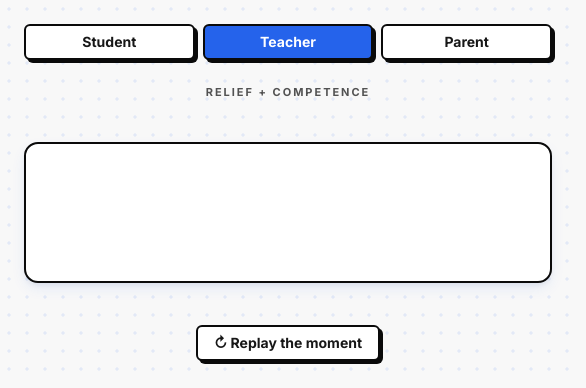
Test: SignatureMoment prototype › defaults to the teacher register and switches registers via the toggle
Click the button "Student".
click(109, 42)  # box [24, 24, 195, 60]
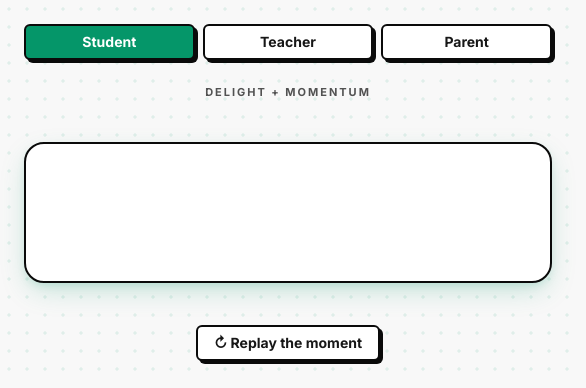
Expected: the button "Student" is pressed, [24, 24, 195, 60]
Click the button "Parent".
click(467, 42)  # box [381, 24, 552, 60]
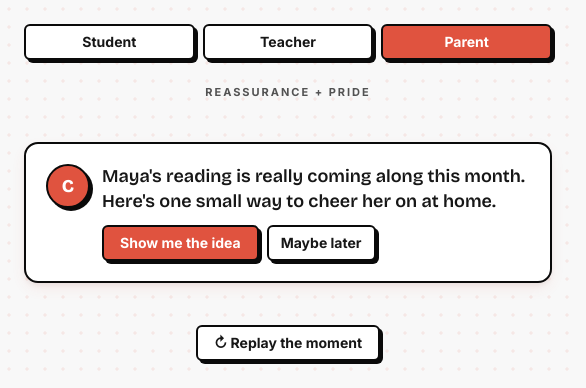
Expected: the text "Maya's reading is really coming along" is shown, [102, 165, 525, 212]
